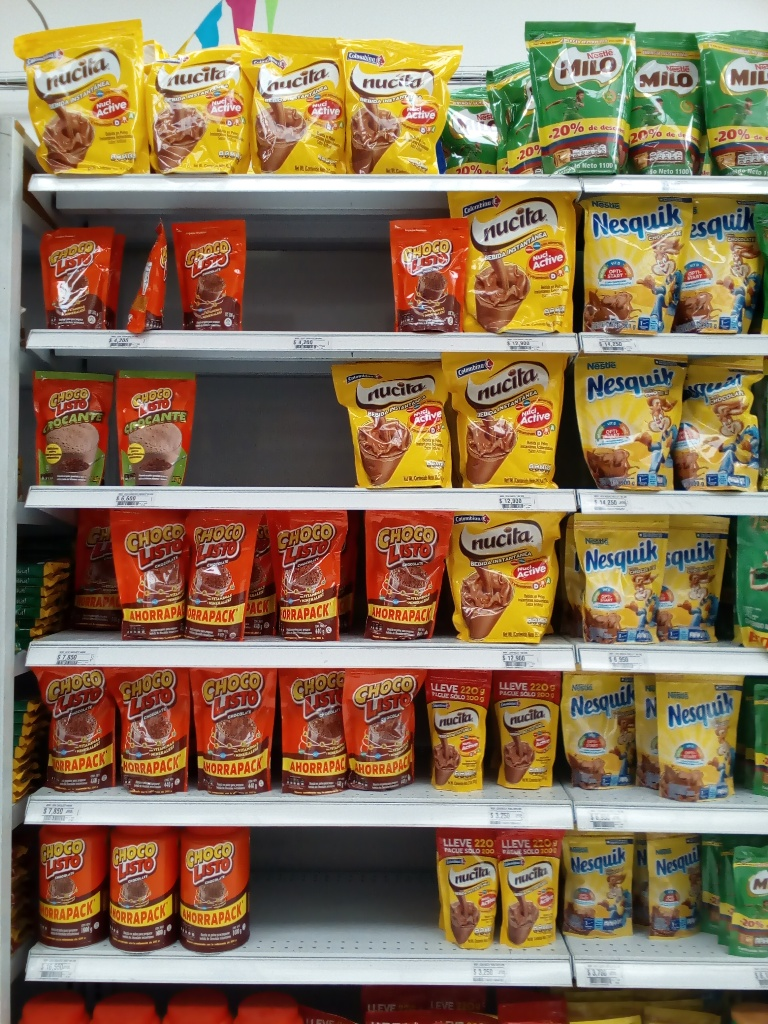COL0170103DYP44000: (363, 509, 451, 641)
COL0170103TRR00100: (178, 824, 256, 952)
COL0170303DYP20000: (659, 515, 733, 642)
